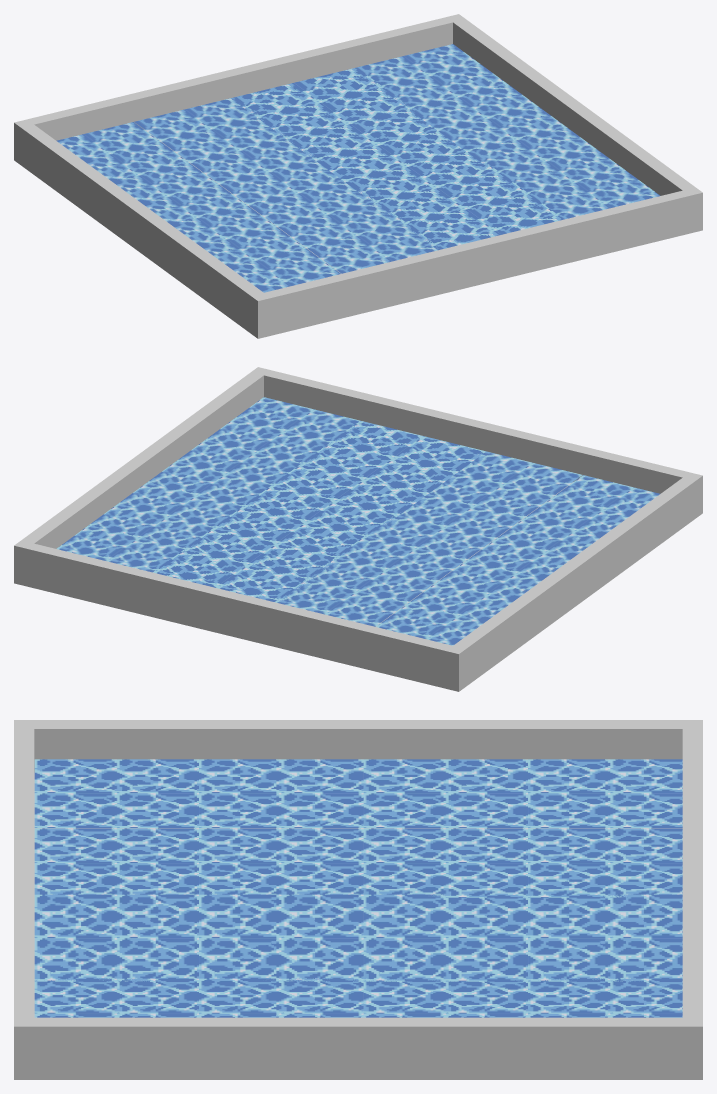
Rendered from Piscina .fbx.
The picture shows the model from 3 angles, top to bottom: view 1: azimuth 30°, elevation 25°; view 2: azimuth 150°, elevation 25°; view 3: azimuth 270°, elevation 25°; orthographic projection. The views are drawn at different scales.
Visible parts, largest first — view 1: Cube; view 2: Cube; view 3: Cube.
Boxes of the visible parts, x1,y1,x2,y2 form: Cube: [14, 14, 702, 338]; Cube: [14, 367, 702, 691]; Cube: [14, 720, 702, 1079].
Bounding box in the file's own units: 2456 × 199 × 2333.
